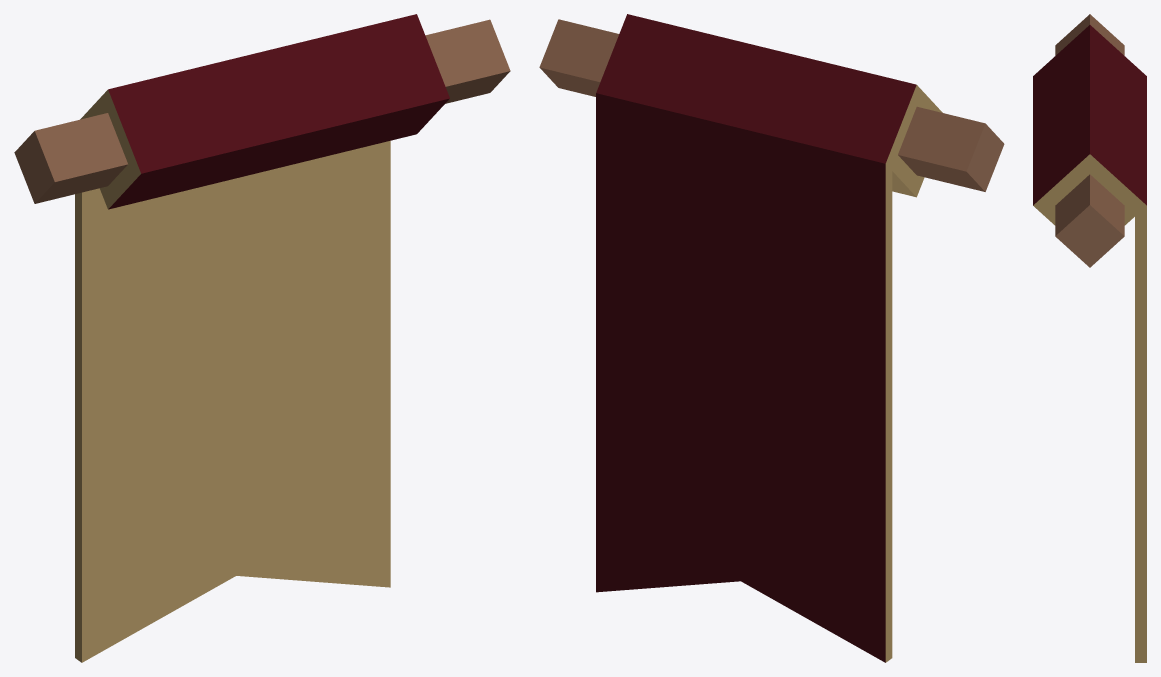
The model's file is TB_Prop_Flag_D.FBX.
3 views of the same model, side by side, from view 1: azimuth 30°, elevation 25°; view 2: azimuth 150°, elevation 25°; view 3: azimuth 270°, elevation 25° (orthographic). The views are drawn at different scales.
Visible parts, largest first — view 1: TB_Prop_Flag_D; view 2: TB_Prop_Flag_D; view 3: TB_Prop_Flag_D.
Part boxes in pixels (box(x1,y1,x2,y2)): TB_Prop_Flag_D: box(14, 14, 510, 662); TB_Prop_Flag_D: box(539, 14, 1004, 662); TB_Prop_Flag_D: box(1033, 14, 1146, 662).
Size of the model in its own units: 1.95 by 2.42 by 0.4917.
